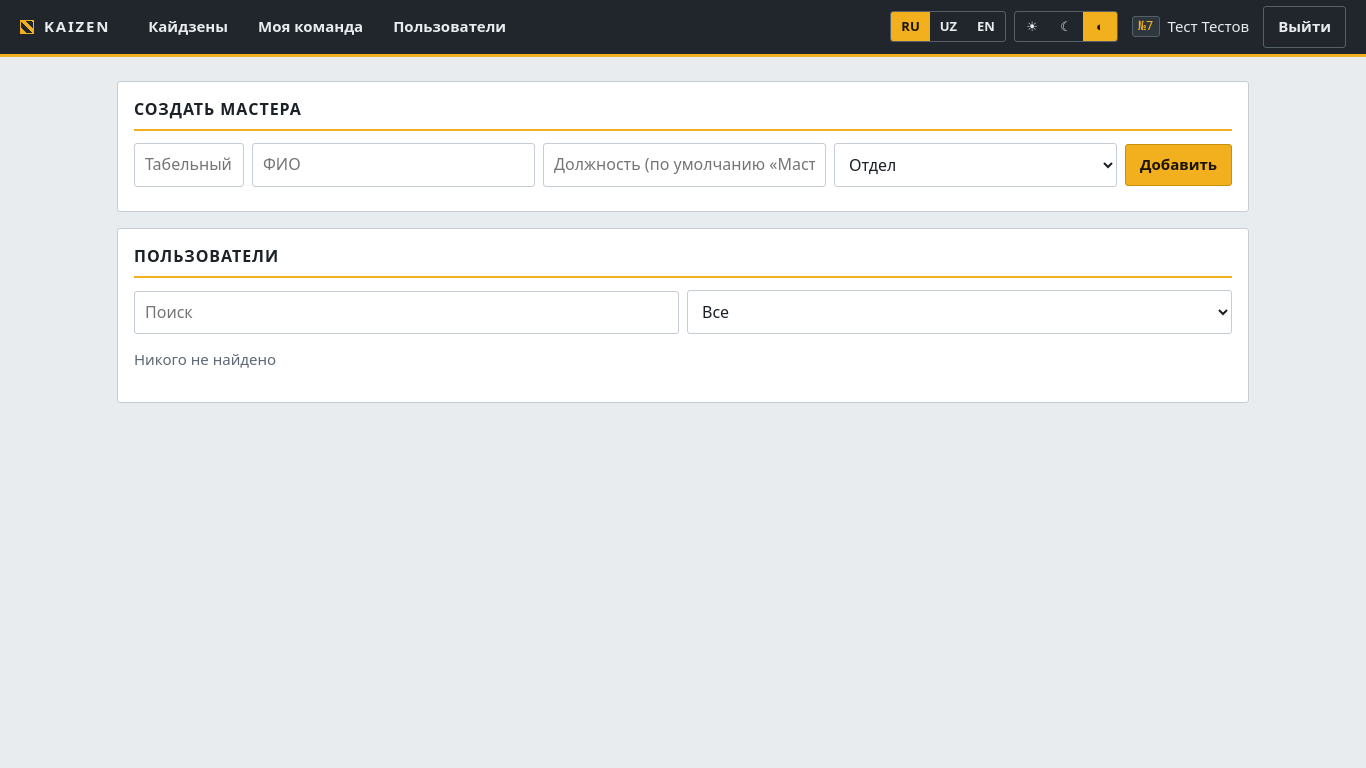
Test case: доступ по ролям › менеджер пользователей видит раздел и может создать мастера (код показывается)
Type "55" into the field with placeholder "Табельный №" at (189, 165), box [134, 143, 244, 186]
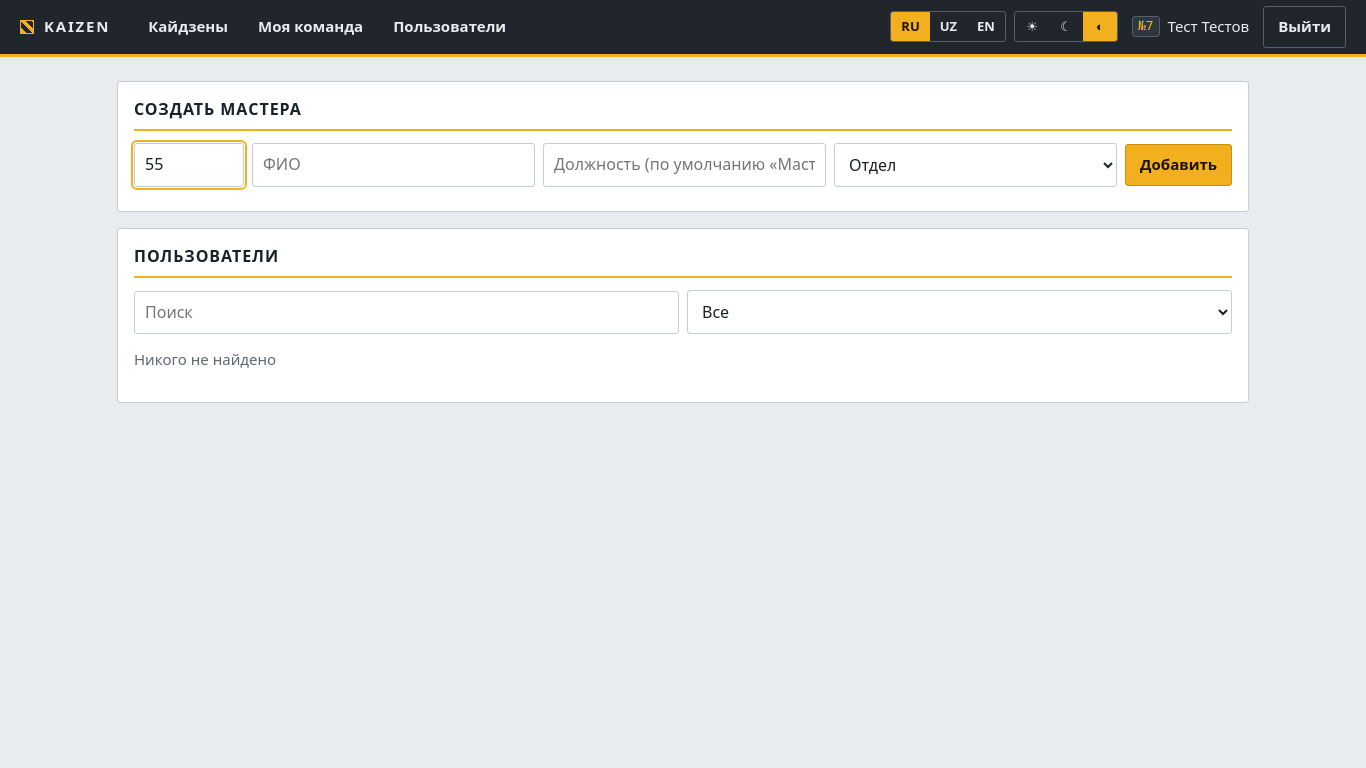
Type "Новый Мастер" into the field with placeholder "ФИО" at (394, 165), box [252, 143, 535, 186]
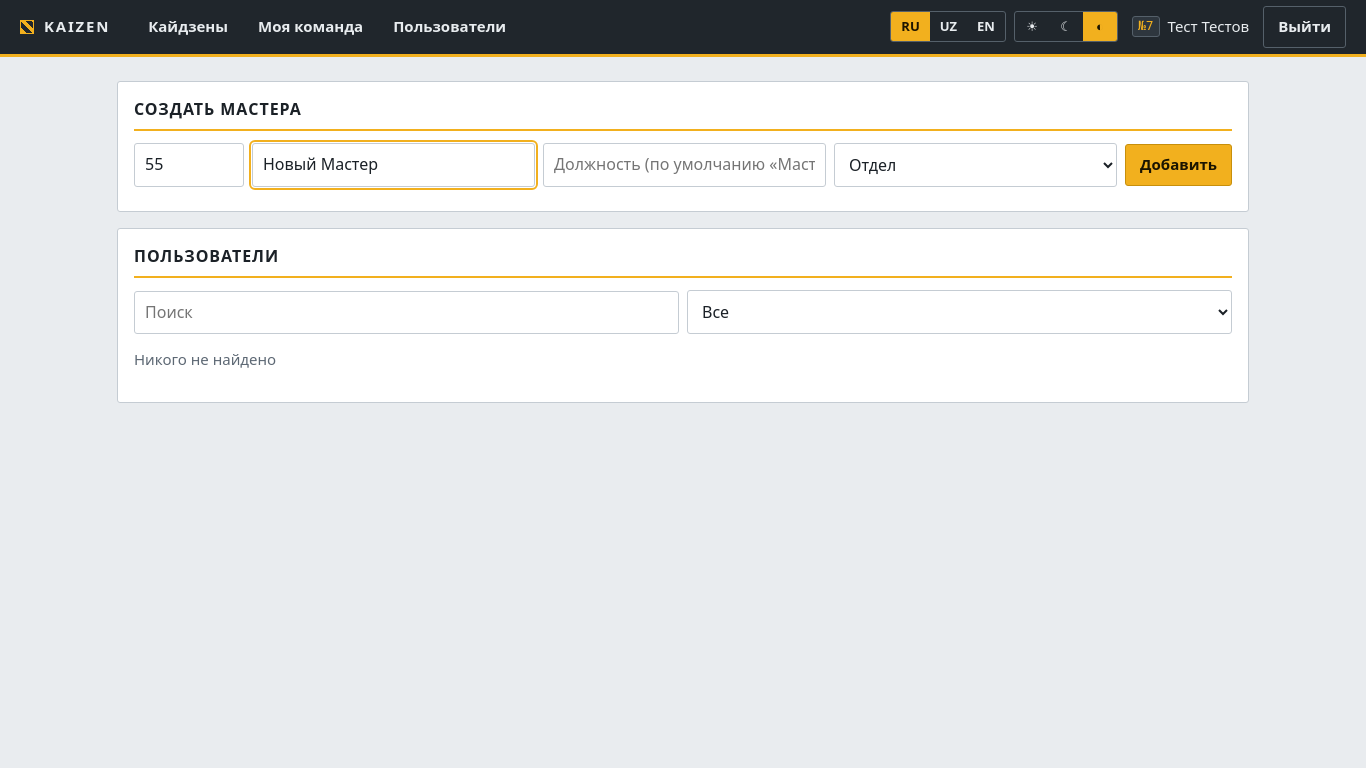
Click the button "Добавить" at (1179, 165), box [1125, 144, 1232, 186]
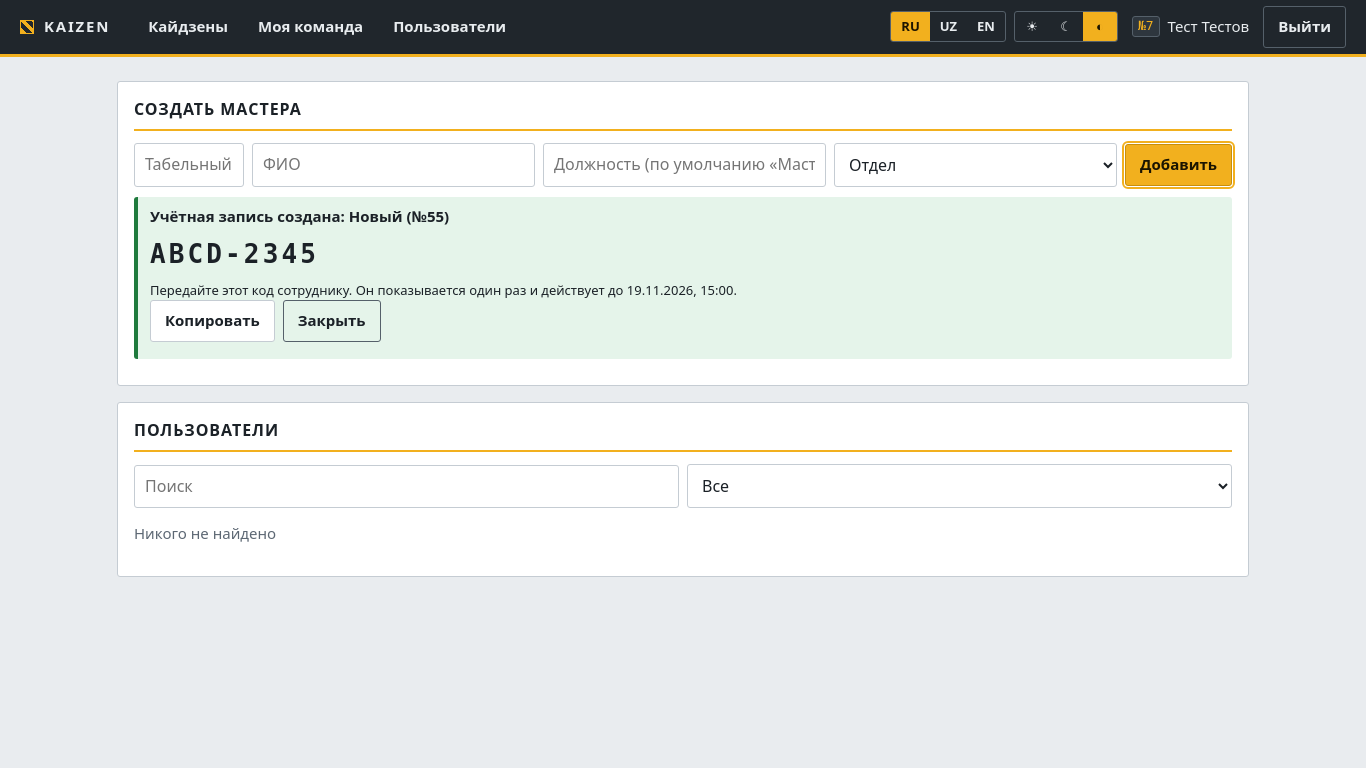
Now the text "ABCD-2345" is shown, box [150, 239, 319, 269]
